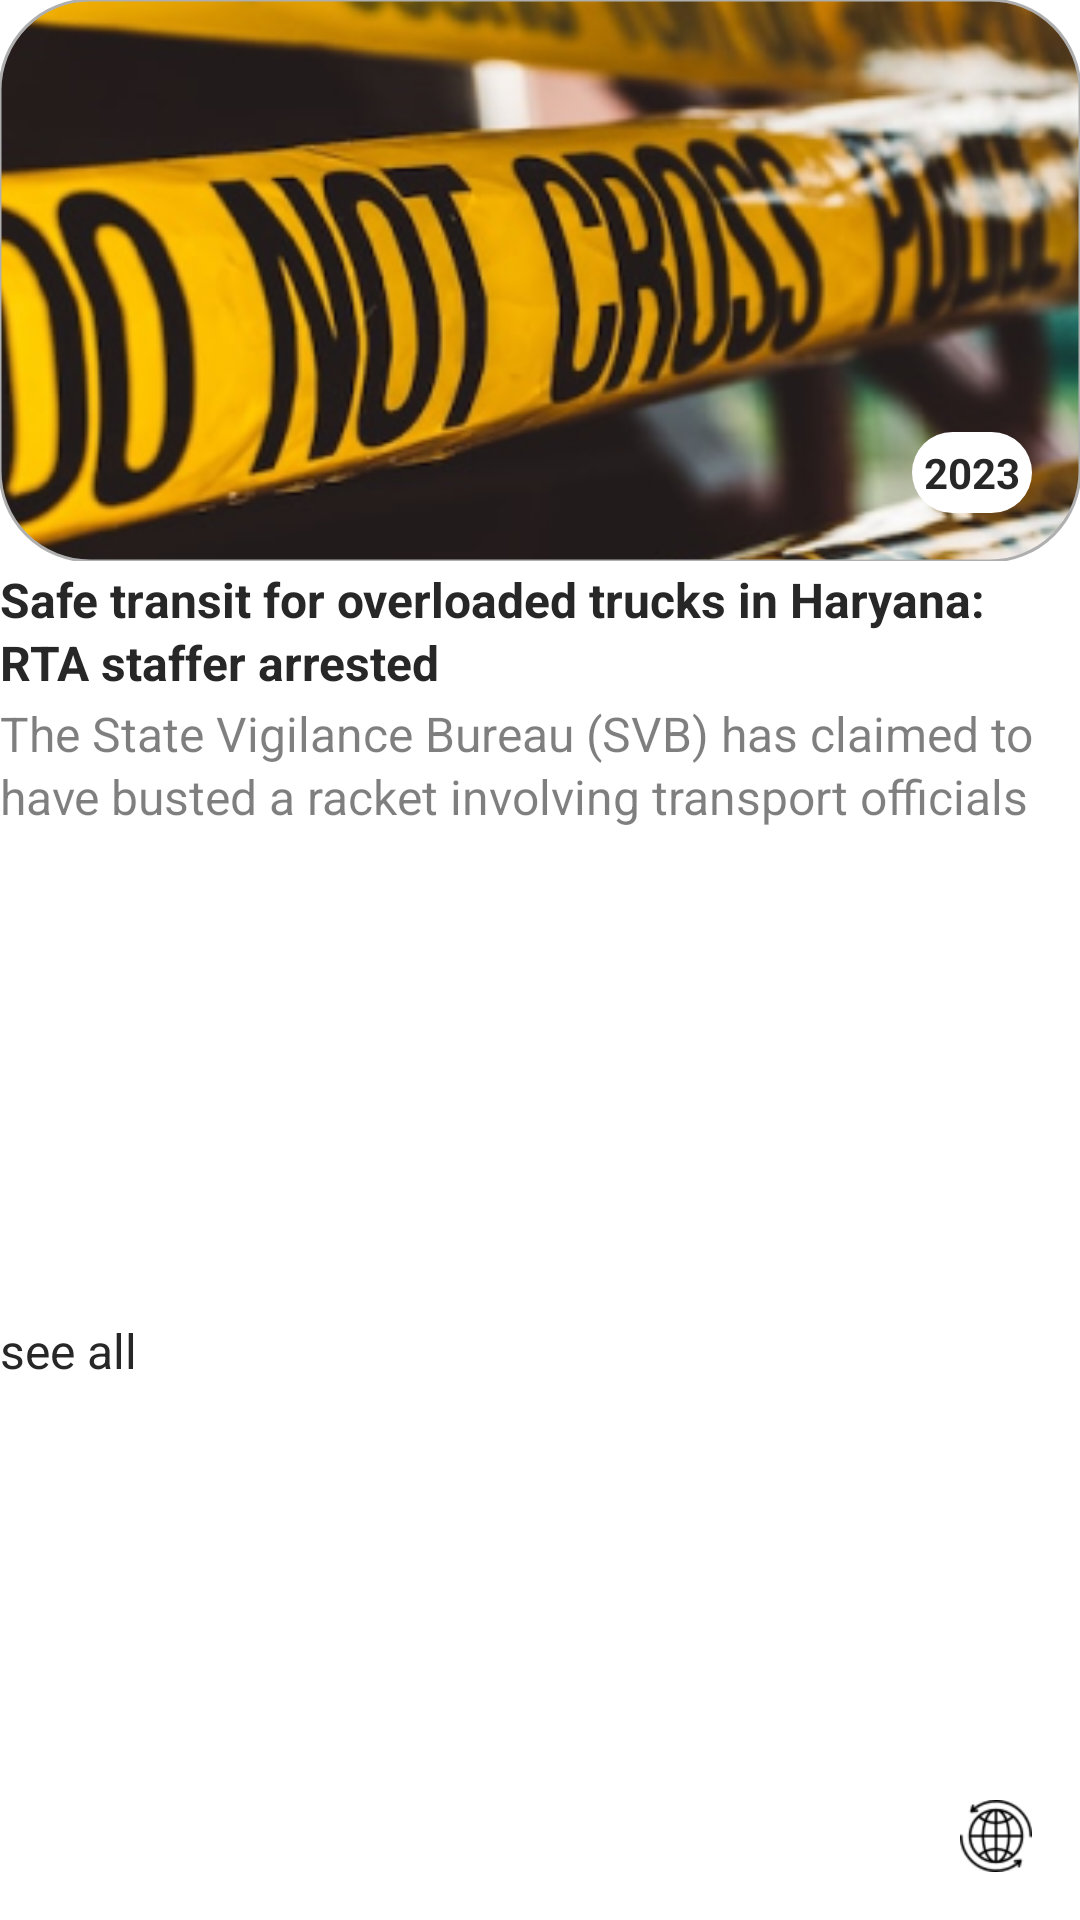

Named icons in this screenshot (1080px x 1920px) and their centers, (x=x, y=y):
world: (x=996, y=1836)
